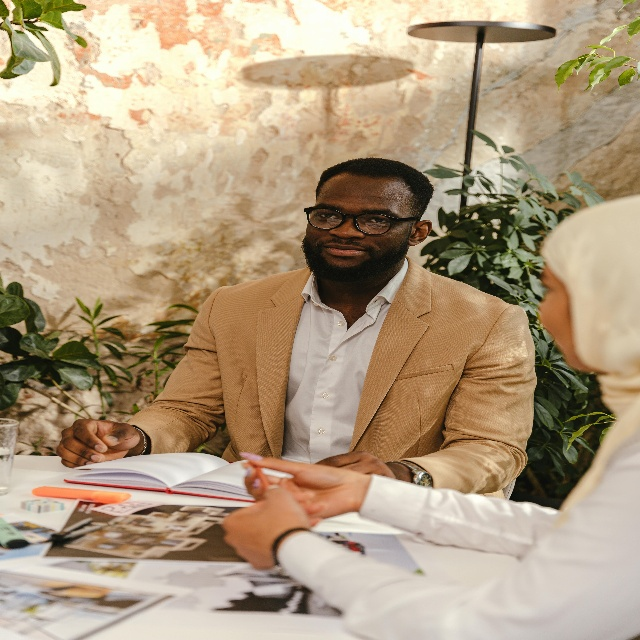Gafas: (304, 205, 420, 236)
Sin_guantes: (241, 442, 370, 506), (220, 484, 305, 580), (55, 418, 142, 467), (315, 449, 396, 478)
